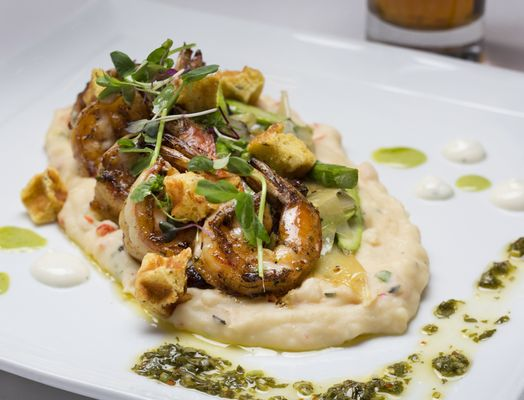pizza: (365, 0, 487, 61)
